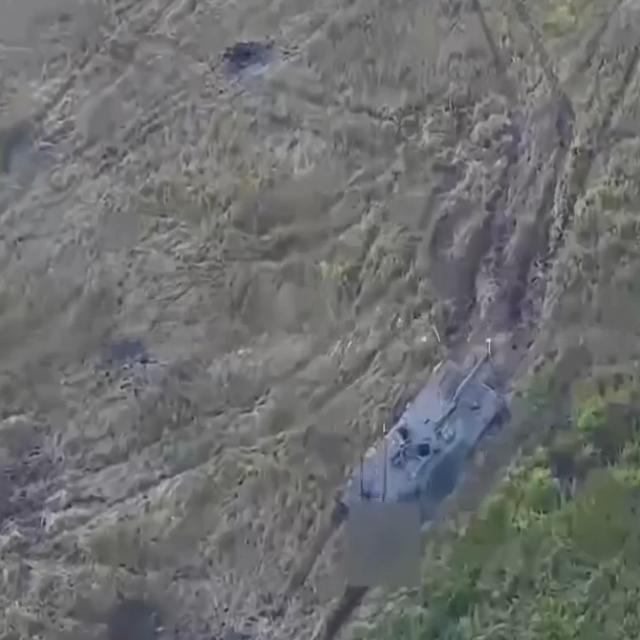MBT: (337, 343, 509, 552)
